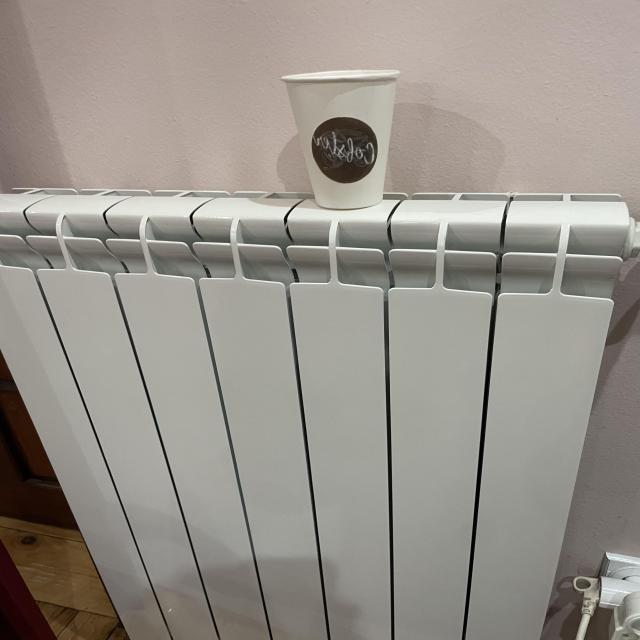big: (272, 57, 411, 219)
